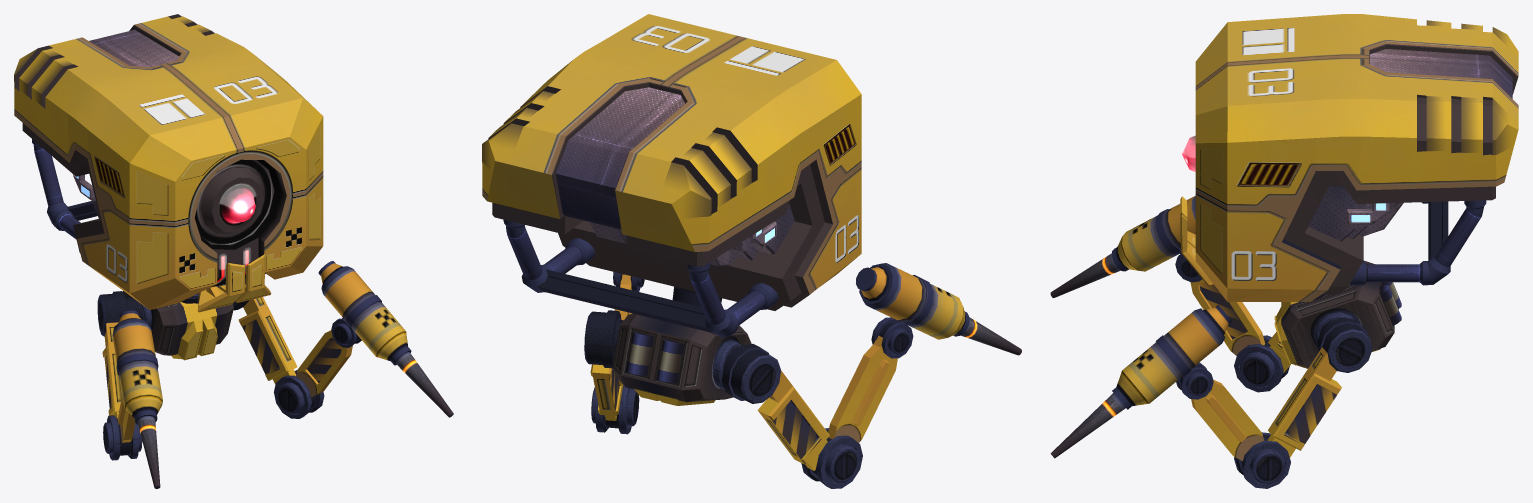
Rendered from utility_robot.glb.
The picture shows the model from 3 angles, left to right: view 1: azimuth 30°, elevation 25°; view 2: azimuth 150°, elevation 25°; view 3: azimuth 270°, elevation 25°; orthographic projection. The views are drawn at different scales.
Visible parts, largest first — view 1: Object_2, Object_3; view 2: Object_2, Object_3; view 3: Object_2, Object_3.
Boxes of the visible parts, box(x1,y1,x2,y2) form: Object_2: box(14, 16, 453, 488); Object_3: box(15, 14, 411, 459); Object_2: box(482, 14, 1021, 488); Object_3: box(482, 82, 927, 488); Object_2: box(1050, 14, 1518, 483); Object_3: box(1112, 44, 1518, 488).
Size of the model in its own units: 45.76 by 49.35 by 55.28.
1 material, 1 textured.
